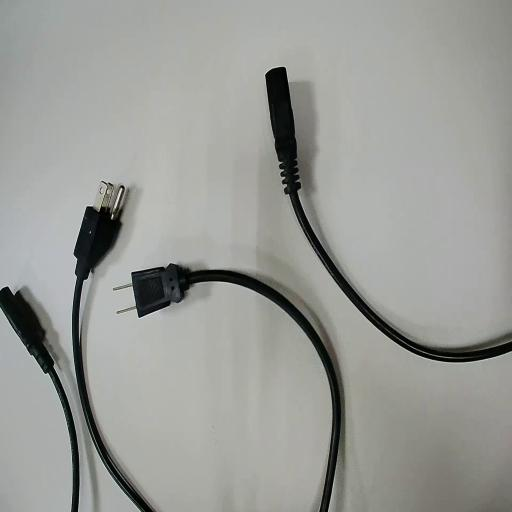wire: (266, 68, 511, 361), (133, 265, 341, 511), (73, 207, 152, 511), (0, 288, 78, 511)
